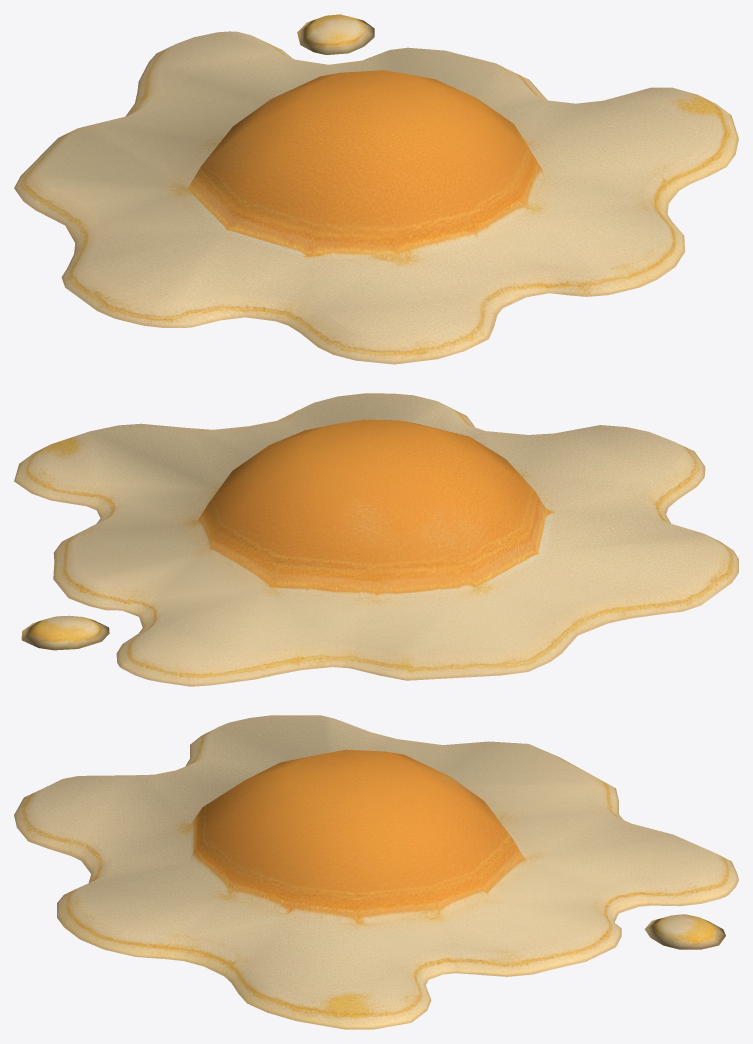
3 renders of one model, top to bottom at view 1: azimuth 30°, elevation 25°; view 2: azimuth 150°, elevation 25°; view 3: azimuth 270°, elevation 25°, orthographic. The views are drawn at different scales.
Parts seen in each view (by area): view 1: tripo_node_ae82eef2-a227-46ae-9142-981173ecd797; view 2: tripo_node_ae82eef2-a227-46ae-9142-981173ecd797; view 3: tripo_node_ae82eef2-a227-46ae-9142-981173ecd797.
Boxes of the visible parts, bbox=[...] form: tripo_node_ae82eef2-a227-46ae-9142-981173ecd797: bbox=[14, 14, 738, 364]; tripo_node_ae82eef2-a227-46ae-9142-981173ecd797: bbox=[14, 393, 738, 686]; tripo_node_ae82eef2-a227-46ae-9142-981173ecd797: bbox=[14, 715, 738, 1029].
Bounding box in the file's own units: 0.998 × 0.1465 × 0.9902.
Materials: 1 (1 with a texture image).
